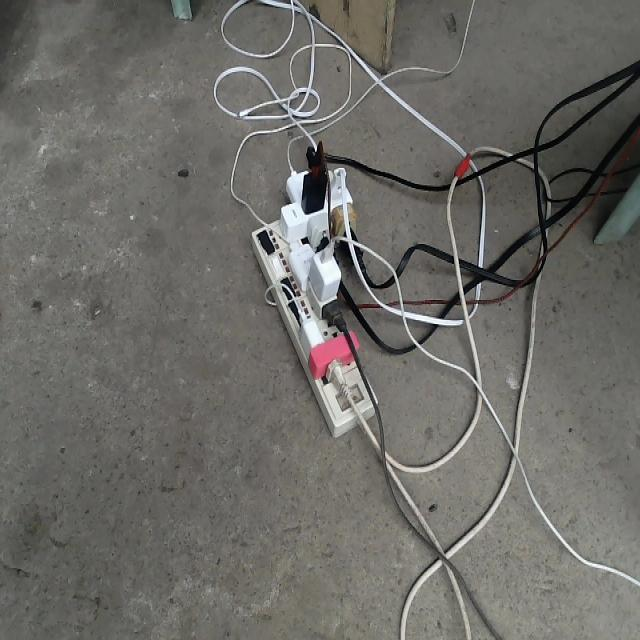-: (249, 134, 377, 438)
